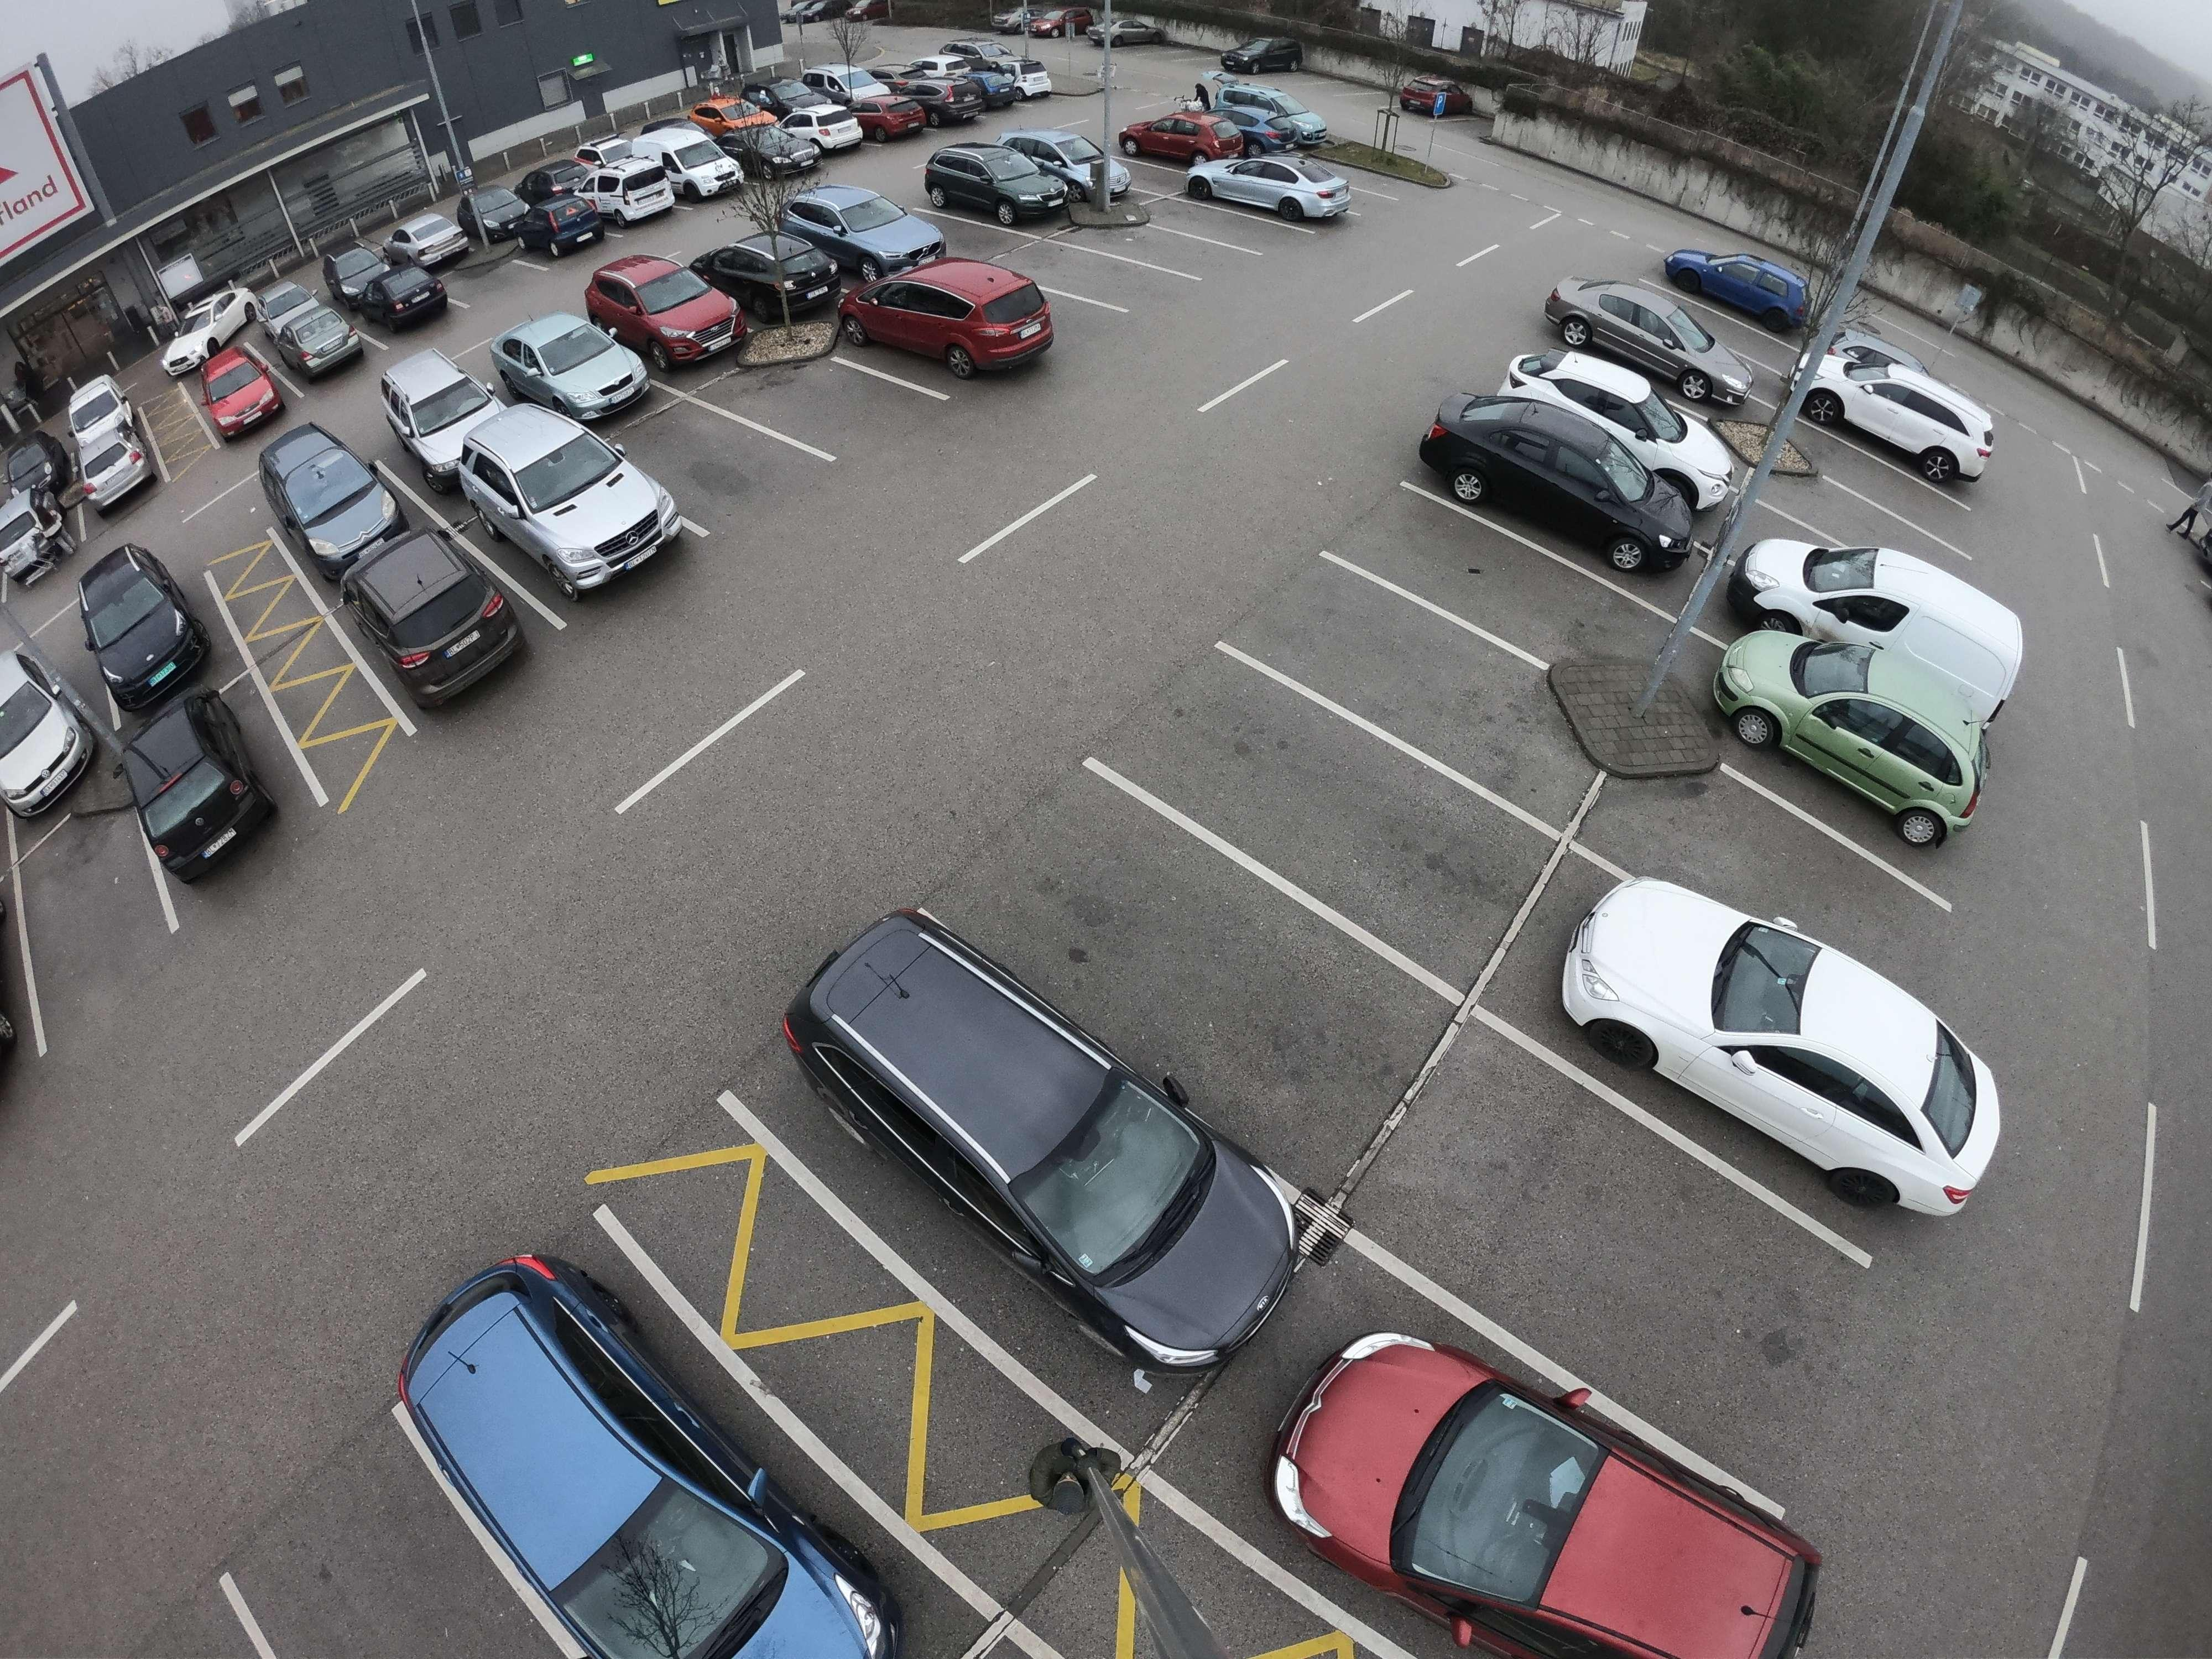empty: (777, 903, 1324, 1364), (366, 1230, 859, 1659), (1275, 1319, 1785, 1633), (1540, 878, 2005, 1195), (1716, 612, 1996, 833), (432, 408, 700, 599), (1423, 411, 1691, 568), (345, 521, 533, 702), (1723, 533, 1989, 653), (129, 681, 263, 880), (1512, 357, 1721, 476), (859, 261, 1057, 382), (68, 544, 211, 701), (1817, 359, 2012, 472), (1552, 289, 1743, 390), (275, 434, 425, 554), (0, 631, 96, 814), (496, 315, 658, 422), (608, 263, 752, 368), (792, 186, 944, 274), (1179, 153, 1353, 225), (1660, 249, 1817, 328), (711, 232, 846, 317), (937, 141, 1078, 221), (188, 336, 293, 437), (78, 411, 167, 514), (265, 303, 373, 387), (3, 472, 77, 582), (592, 159, 683, 223), (728, 122, 819, 181), (665, 134, 749, 197), (961, 52, 1054, 105), (531, 199, 610, 258), (1211, 82, 1312, 127), (787, 108, 867, 159), (902, 70, 981, 120), (853, 96, 927, 143)
occupied: (244, 1499, 465, 1659), (1468, 1155, 1696, 1302), (1078, 906, 1291, 1042), (1235, 748, 1413, 856), (1350, 638, 1501, 732), (1689, 810, 1838, 903), (35, 850, 152, 953), (1420, 537, 1543, 619), (1799, 477, 1902, 575), (775, 378, 885, 448), (1834, 432, 1919, 519), (658, 432, 742, 491), (448, 263, 540, 315), (1036, 244, 1122, 293), (1186, 188, 1244, 249), (1120, 225, 1195, 268)
